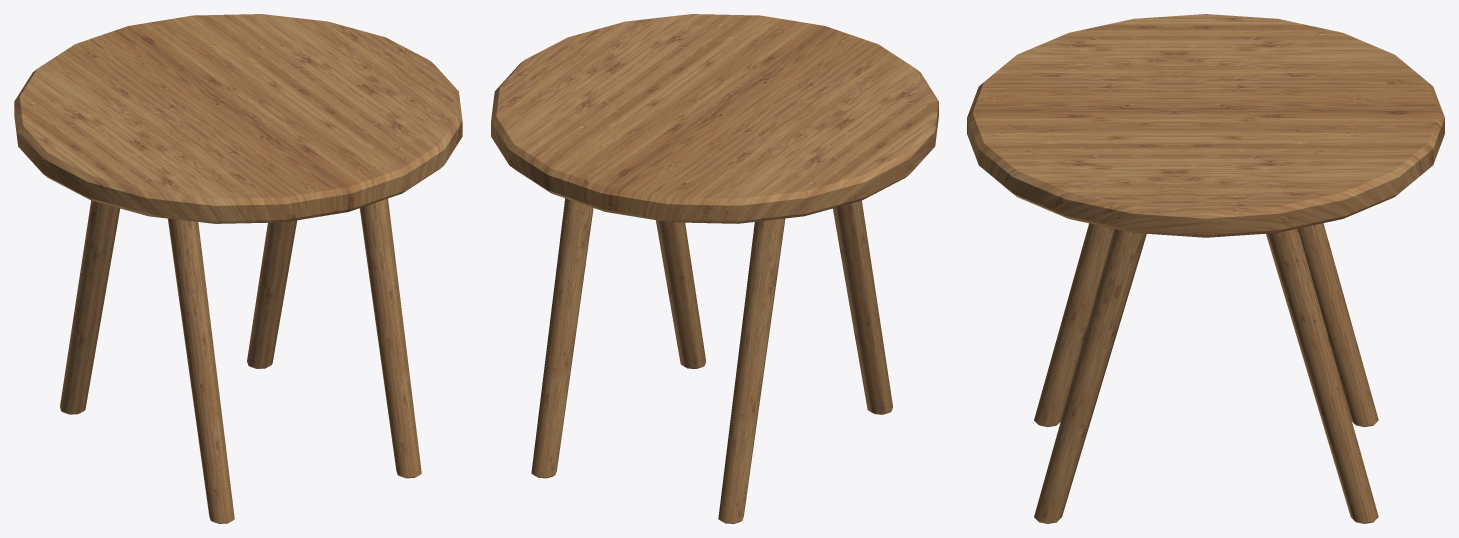
File: plant pot stand1.FBX
3 views of the same model, side by side, from view 1: azimuth 30°, elevation 25°; view 2: azimuth 150°, elevation 25°; view 3: azimuth 270°, elevation 25° (orthographic). The views are drawn at different scales.
Parts seen in each view (by area): view 1: plant pot stand1; view 2: plant pot stand1; view 3: plant pot stand1.
Part boxes in pixels (left/top/right/bottom): plant pot stand1: left=14, top=14, right=462, bottom=523; plant pot stand1: left=491, top=14, right=938, bottom=523; plant pot stand1: left=967, top=14, right=1444, bottom=523.
Size of the model in its own units: 18 by 18 by 14.82.
1 material, 1 textured.
